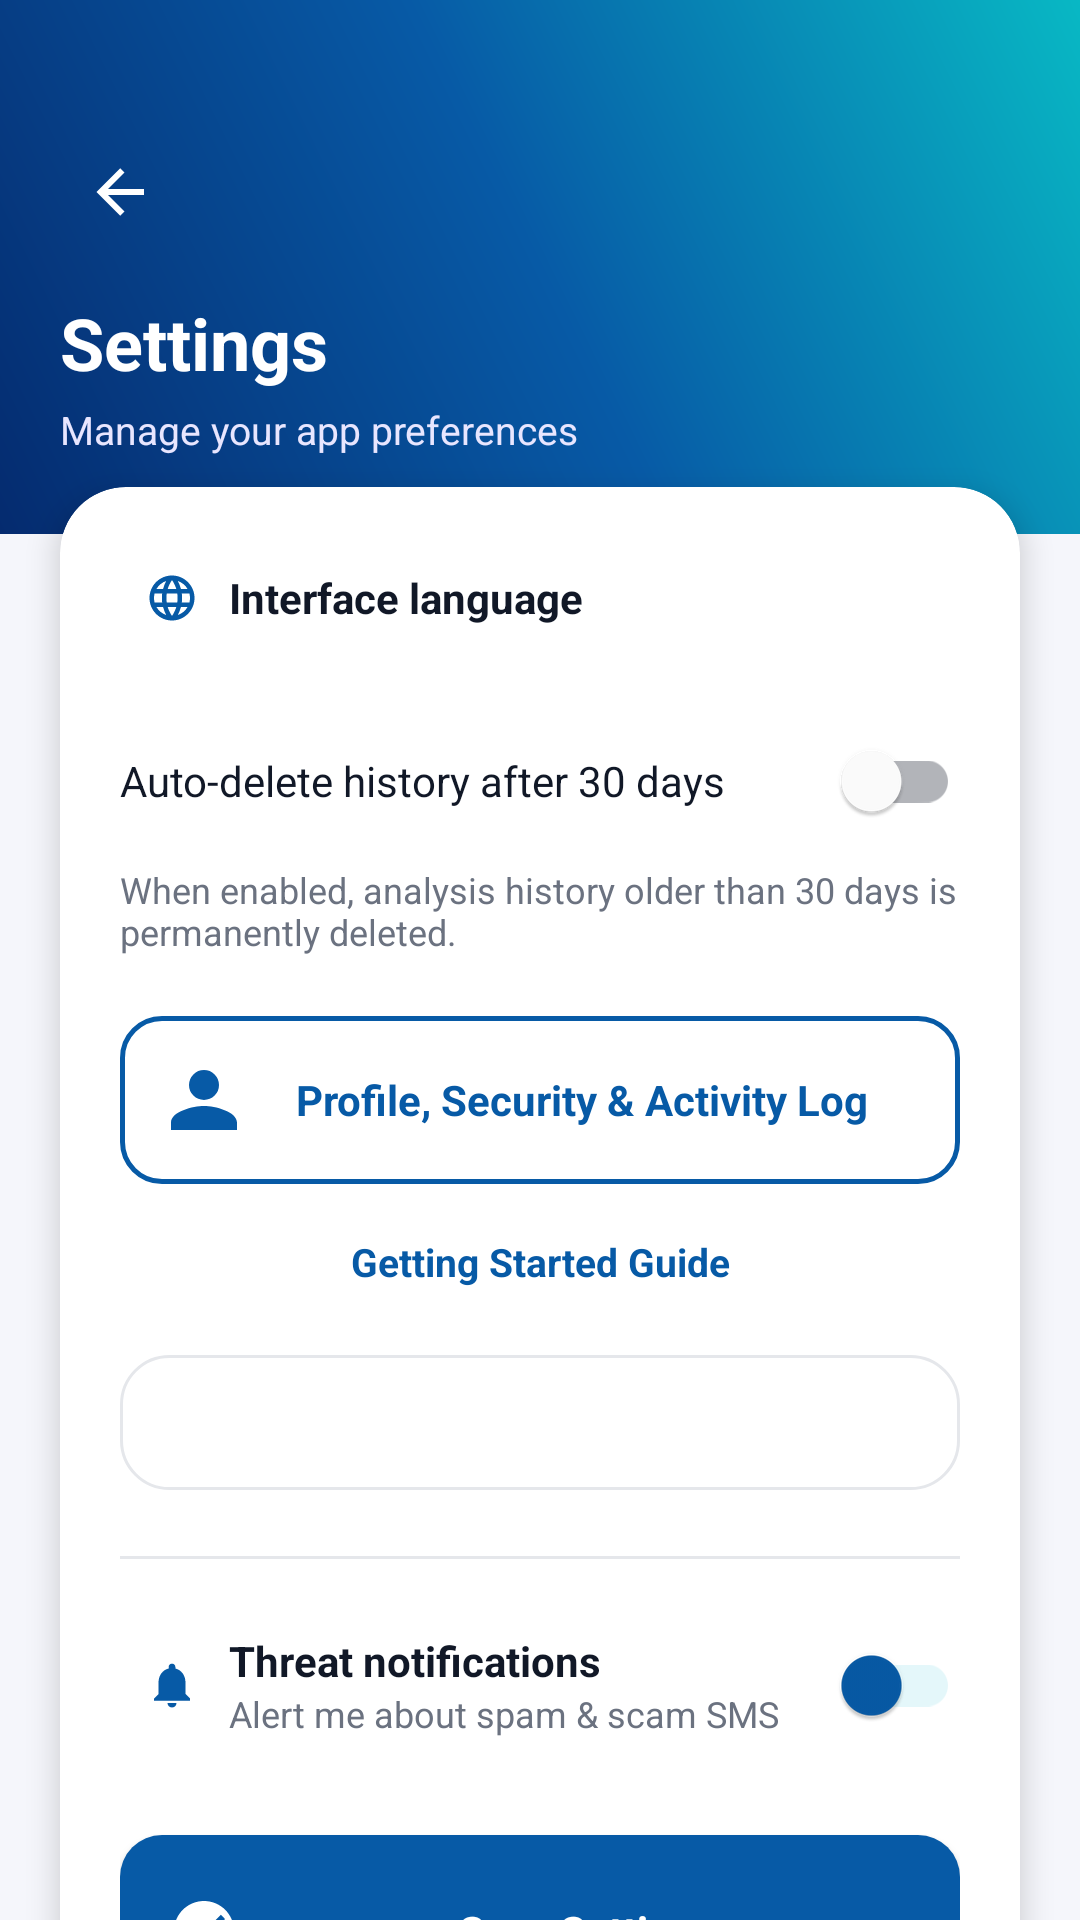

Screen size 1080px×1920px. Icon name, then its box in pixels as (x1, y1, x2, y2):
Back: (96, 168, 144, 216)
